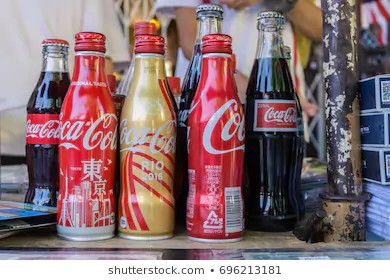coke-bottle-300ml: (116, 31, 181, 239), (182, 32, 243, 243), (58, 33, 116, 242)
coke-glass-bottle: (248, 10, 301, 227), (22, 35, 71, 228)
